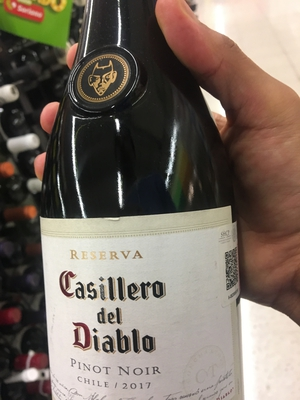casillero del diablo pinot noir: (42, 21, 245, 400)
